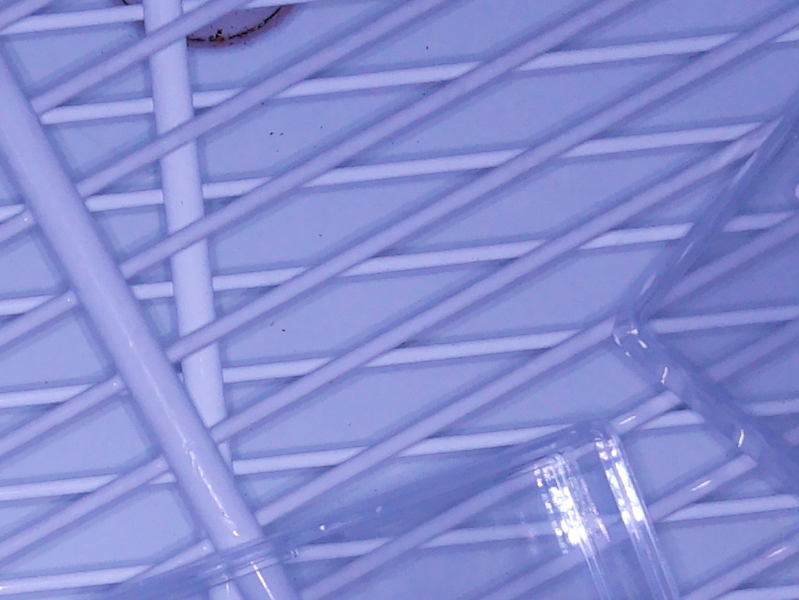plate: (88, 412, 681, 600), (608, 94, 799, 499)
